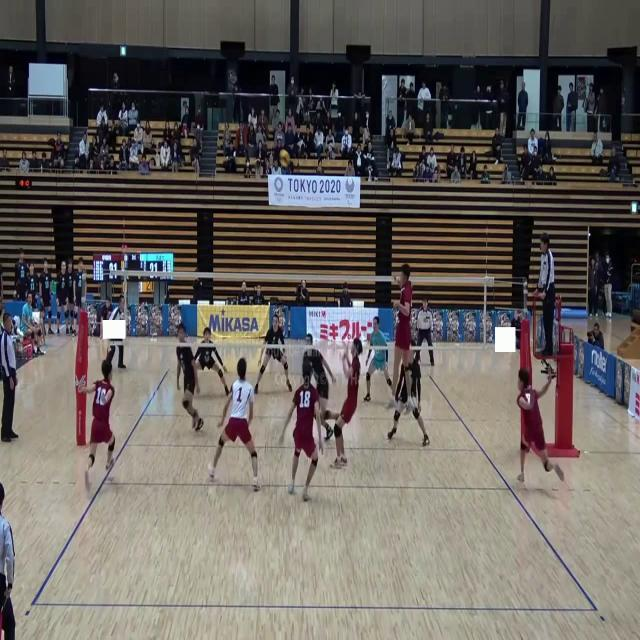volleyball: (279, 150, 290, 168)
